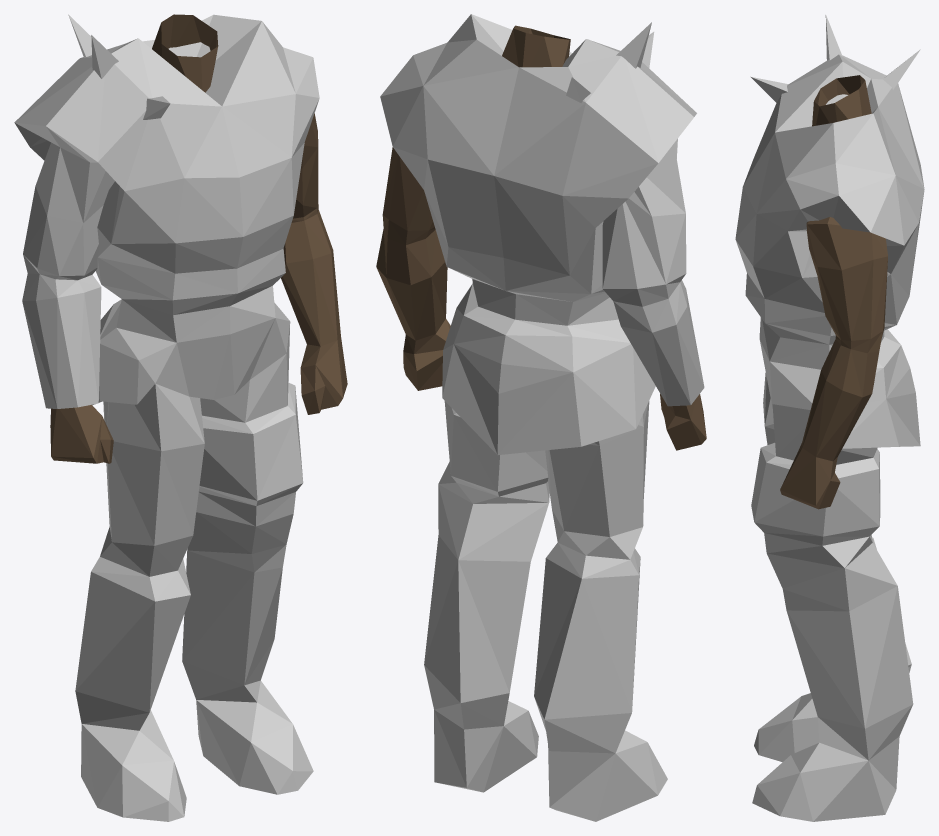
The model's file is ARMOR_SLD_L.OBJ.
3 renders of one model, left to right at view 1: azimuth 30°, elevation 25°; view 2: azimuth 150°, elevation 25°; view 3: azimuth 270°, elevation 25°, orthographic. The views are drawn at different scales.
Visible parts, largest first — view 1: ARMOR_SLD_L; view 2: ARMOR_SLD_L; view 3: ARMOR_SLD_L.
Part boxes in pixels (x1,y1,x2,y2): ARMOR_SLD_L: [14, 14, 347, 821]; ARMOR_SLD_L: [376, 14, 706, 821]; ARMOR_SLD_L: [735, 14, 924, 821].
Size of the model in its own units: 0.7035 by 1.74 by 0.4132.
